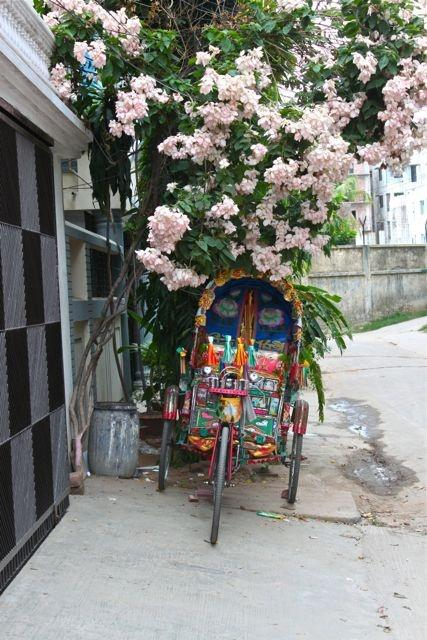Rickshaw: (159, 271, 307, 543)
